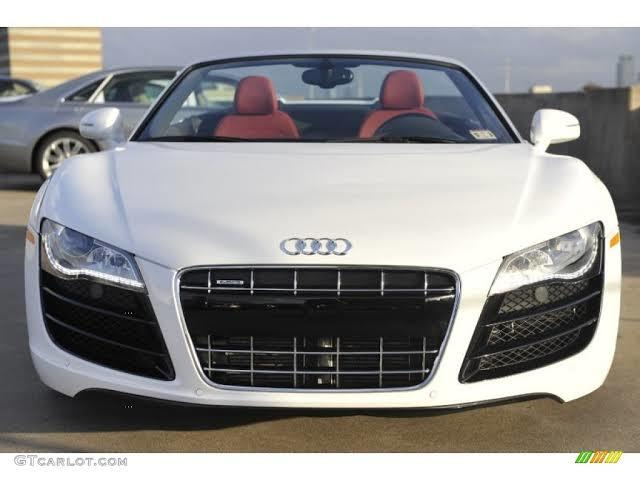audi: (26, 56, 624, 418)
